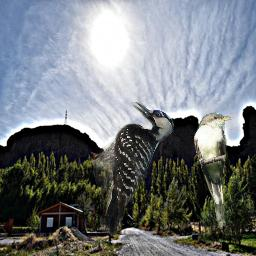Cuckoo: (194, 112, 232, 230)
Woodpecker: (91, 102, 174, 237)
